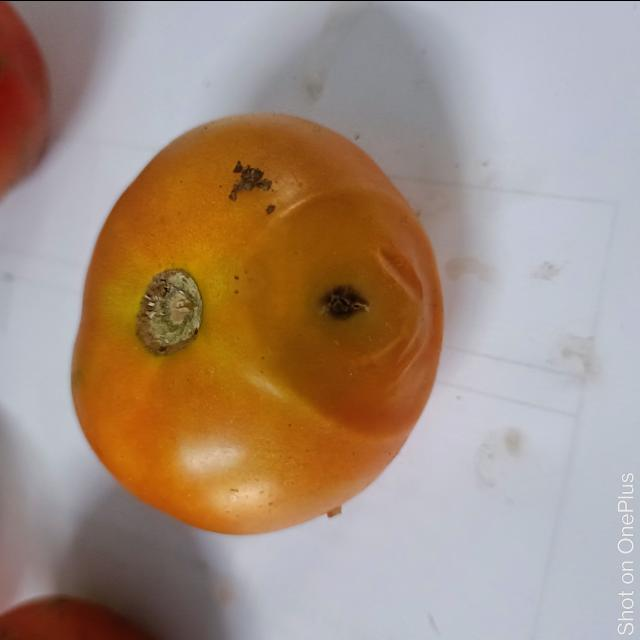Botrytis: (224, 159, 274, 201), (317, 285, 371, 323)
